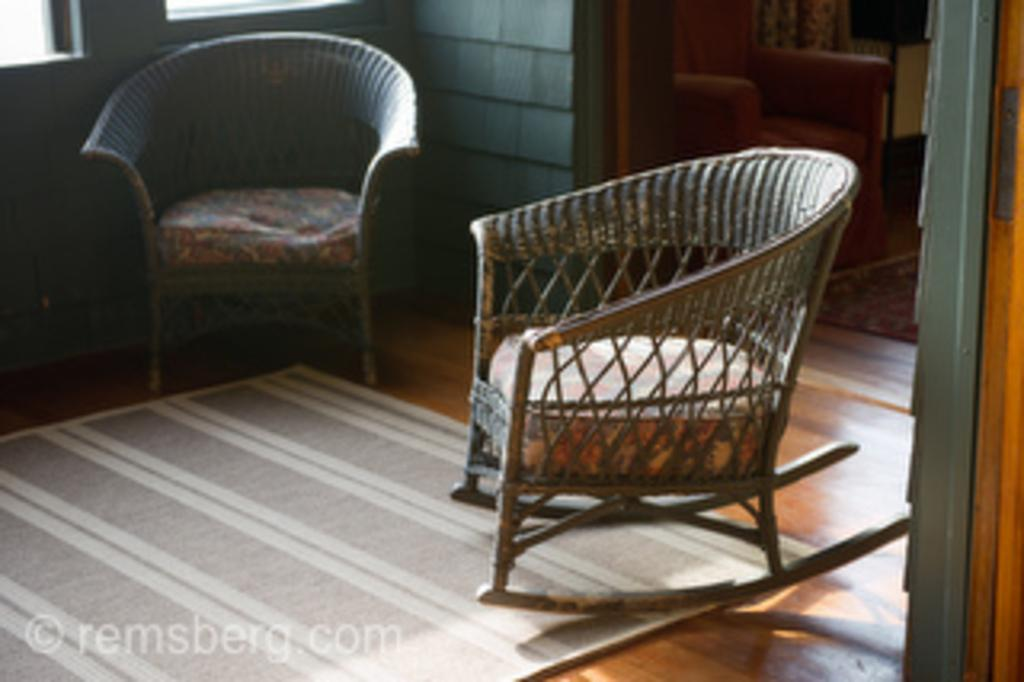Chair: (458, 125, 864, 631), (77, 32, 419, 391)
